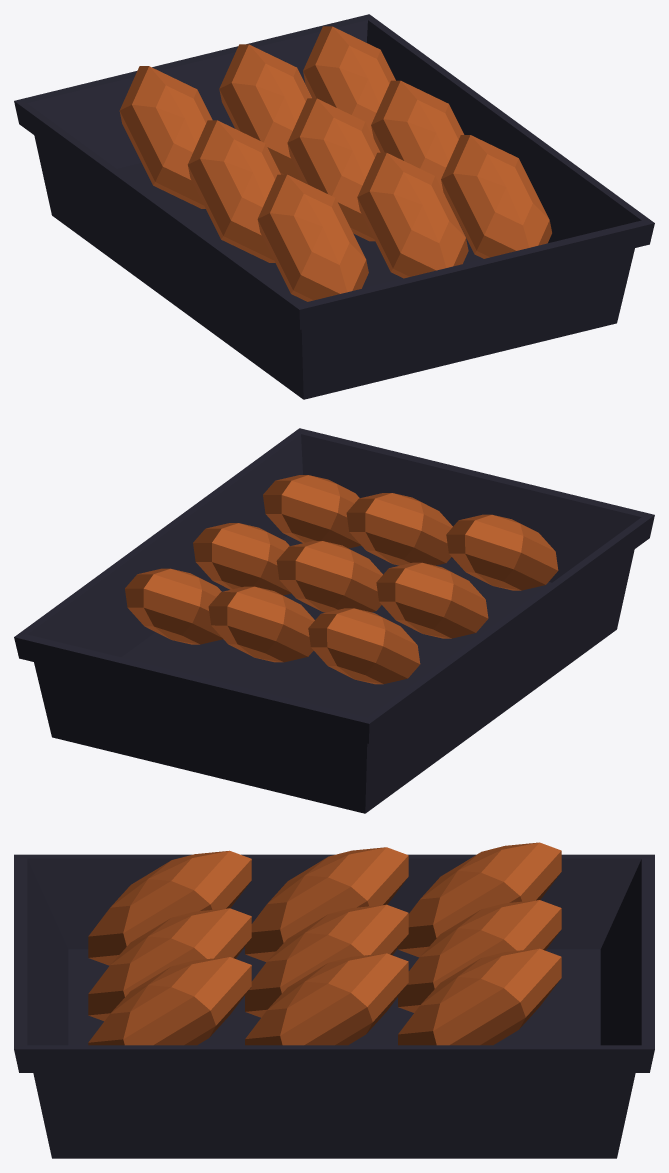
Rendered from BananaCue.fbx.
3 renders of one model, top to bottom at view 1: azimuth 30°, elevation 25°; view 2: azimuth 150°, elevation 25°; view 3: azimuth 270°, elevation 25°, orthographic. The views are drawn at different scales.
Parts seen in each view (by area): view 1: BananaCue; view 2: BananaCue; view 3: BananaCue.
Part boxes in pixels (left/top/right/bottom): BananaCue: left=14, top=14, right=654, bottom=399; BananaCue: left=14, top=428, right=654, bottom=813; BananaCue: left=14, top=842, right=654, bottom=1158.
Bounding box in the file's own units: 95.05 × 132 × 40.72.
